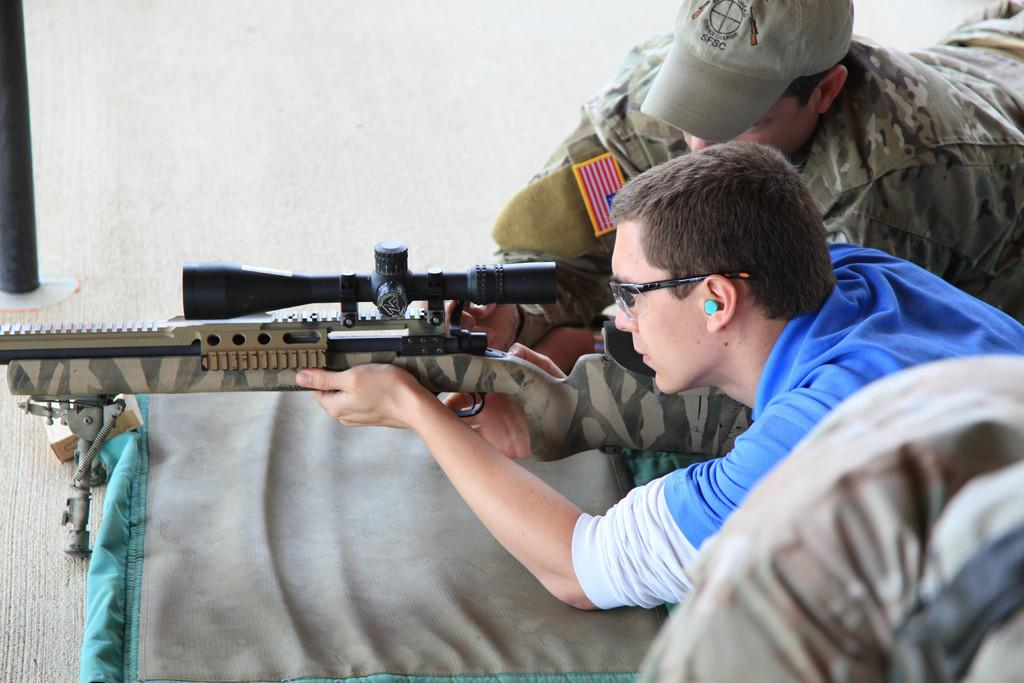Hat: (640, 0, 854, 146)
